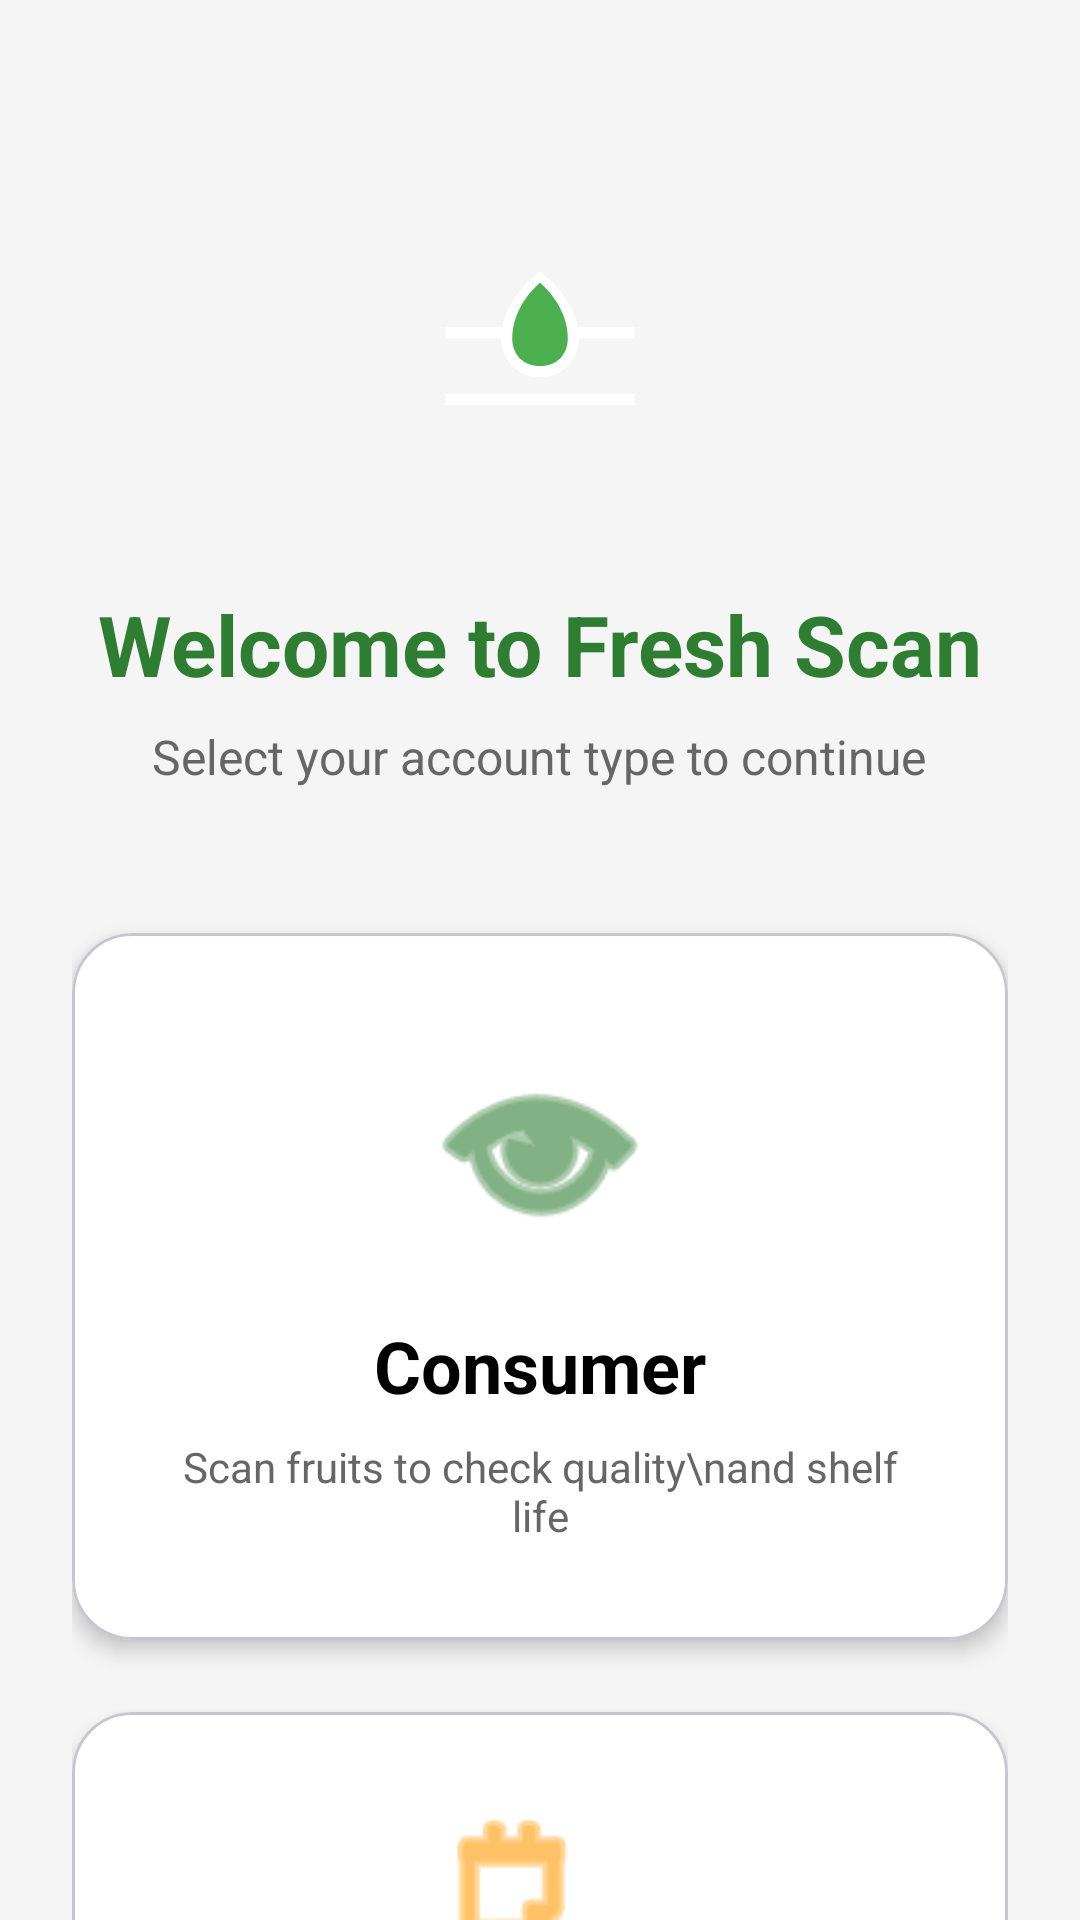

Named icons in this screenshot (1080 × 1920) and their centers, (x=x, y=y):
view: (x=540, y=1155)
